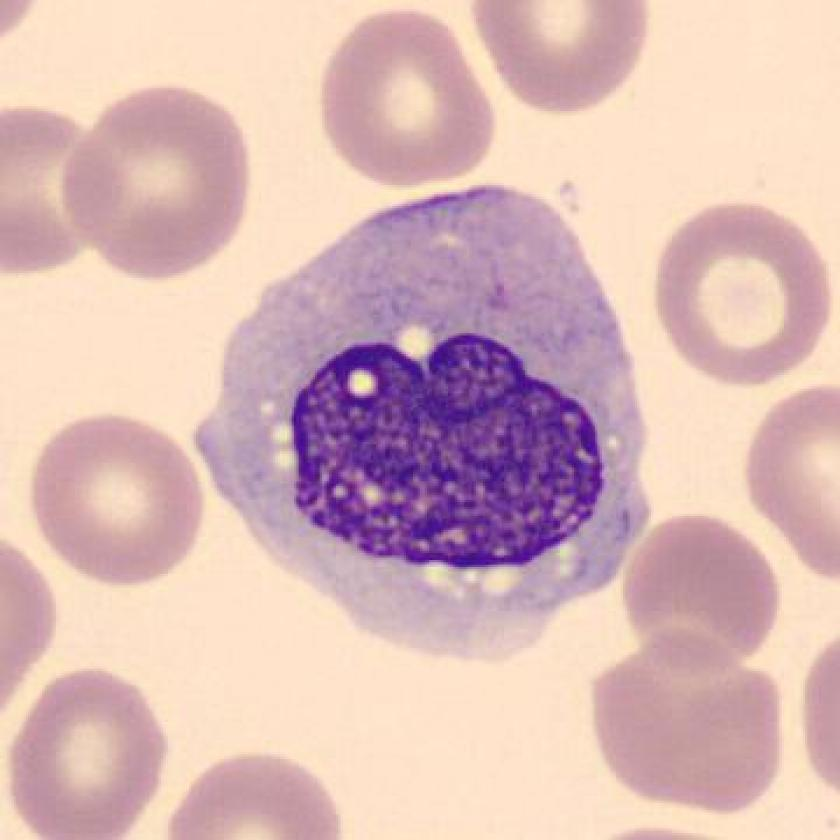monocyte: (171, 173, 671, 682)
